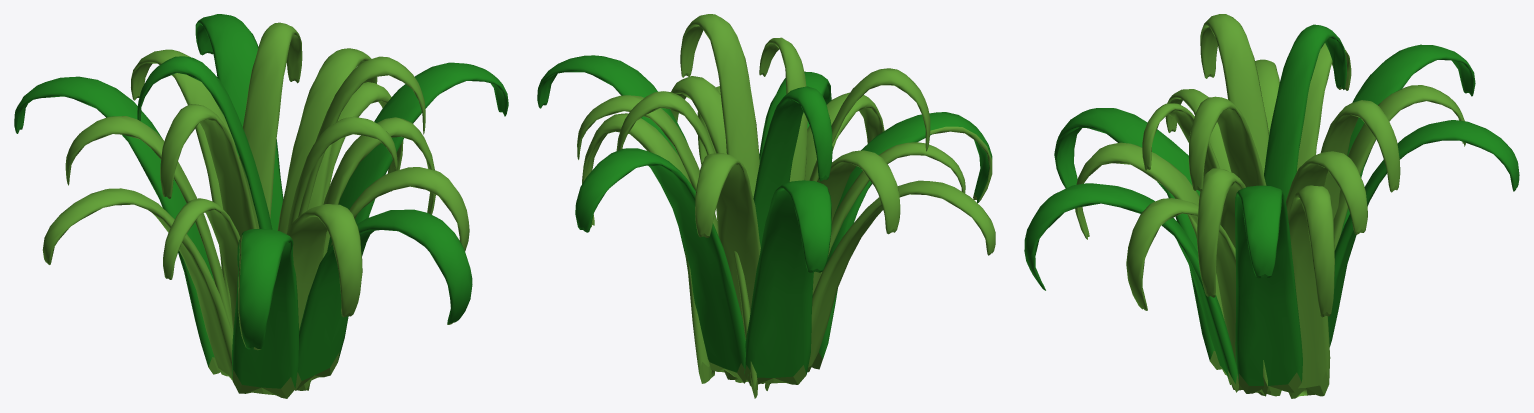
File: Plant Flower.fbx
The picture shows the model from 3 angles, left to right: view 1: azimuth 30°, elevation 25°; view 2: azimuth 150°, elevation 25°; view 3: azimuth 270°, elevation 25°; orthographic projection.
Parts seen in each view (by area): view 1: Plant; view 2: Plant; view 3: Plant.
Boxes of the visible parts, x1=… form: Plant: x1=14, y1=14, x2=508, y2=398; Plant: x1=537, y1=14, x2=995, y2=398; Plant: x1=1024, y1=14, x2=1519, y2=398.
Bounding box in the file's own units: 38.88 × 26.7 × 36.56.
